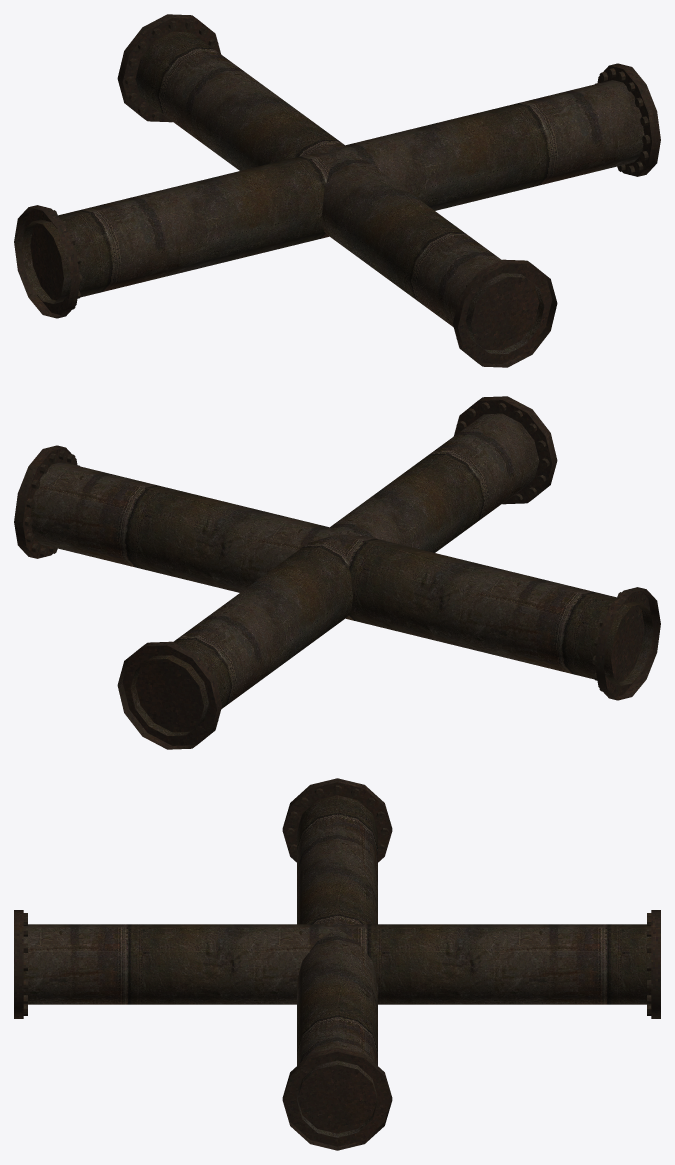
The model's file is pipe_bx_2.glb.
3 renders of one model, top to bottom at view 1: azimuth 30°, elevation 25°; view 2: azimuth 150°, elevation 25°; view 3: azimuth 270°, elevation 25°, orthographic. The views are drawn at different scales.
Parts seen in each view (by area): view 1: pipe_bx_2; view 2: pipe_bx_2; view 3: pipe_bx_2.
Part boxes in pixels (left/top/right/bottom): pipe_bx_2: left=14, top=14, right=660, bottom=367; pipe_bx_2: left=14, top=396, right=660, bottom=749; pipe_bx_2: left=14, top=778, right=660, bottom=1150.
Size of the model in its own units: 4 by 0.676 by 4.
Materials: 2 (2 with a texture image).
